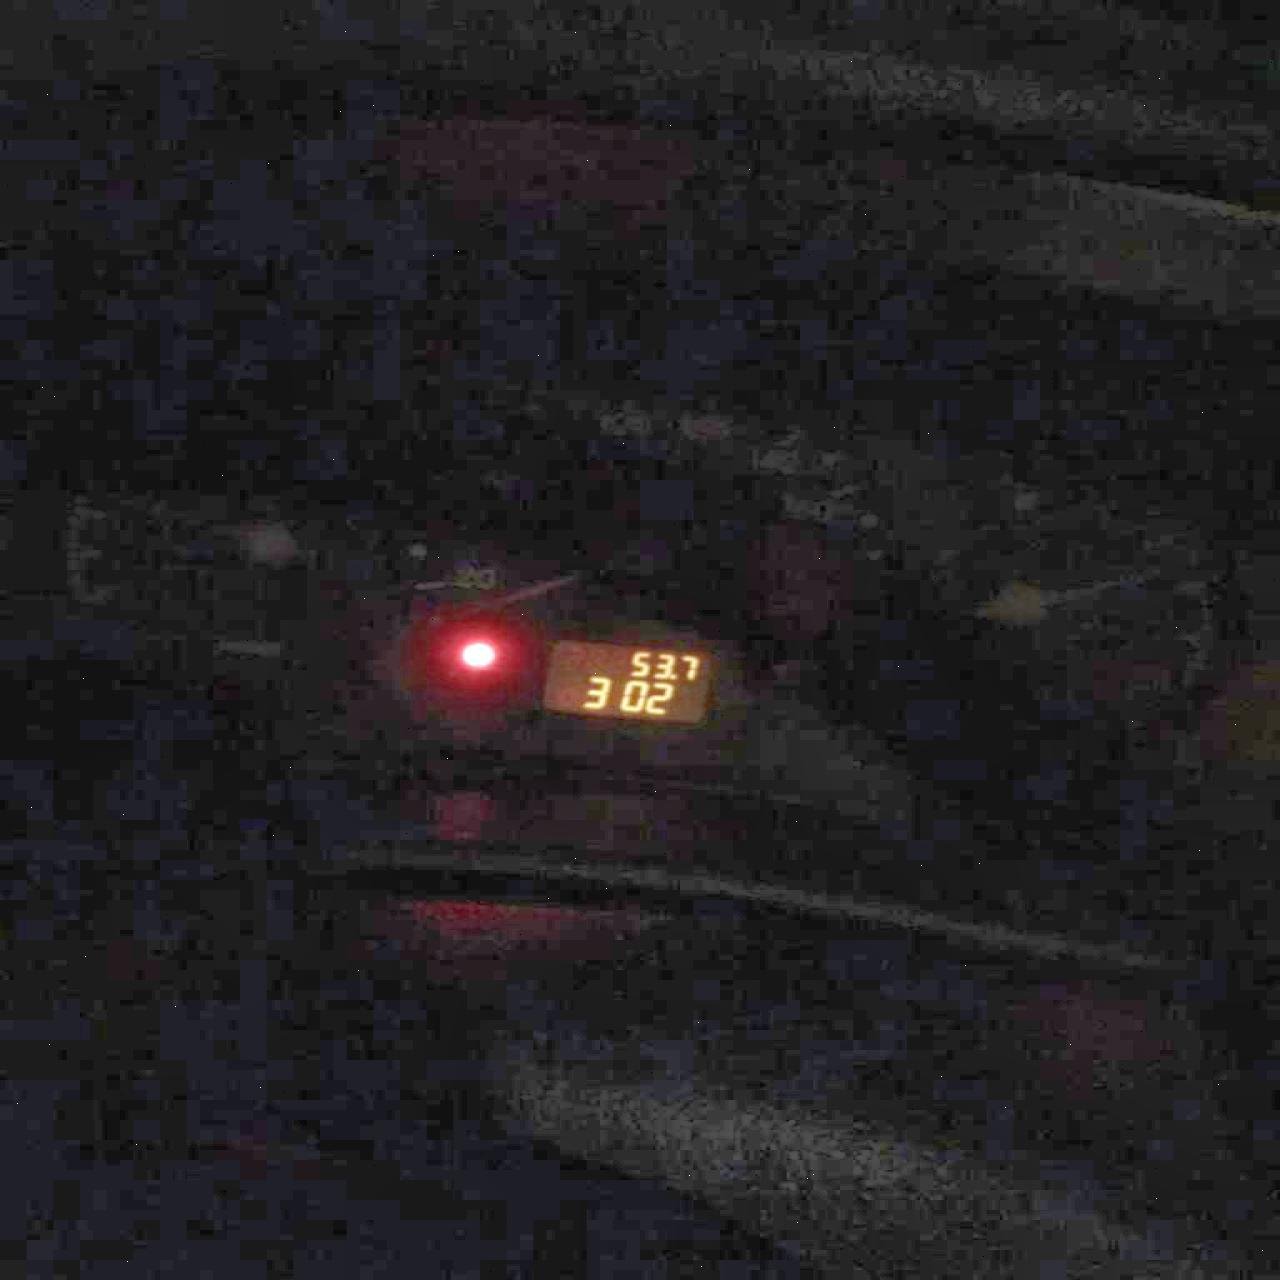-: (668, 670, 680, 680)
0: (618, 679, 647, 713)
2: (645, 680, 673, 715)
3: (581, 674, 611, 708), (653, 651, 667, 678)
5: (626, 648, 652, 676)
7: (680, 652, 700, 680)
odometer: (535, 631, 715, 726)
